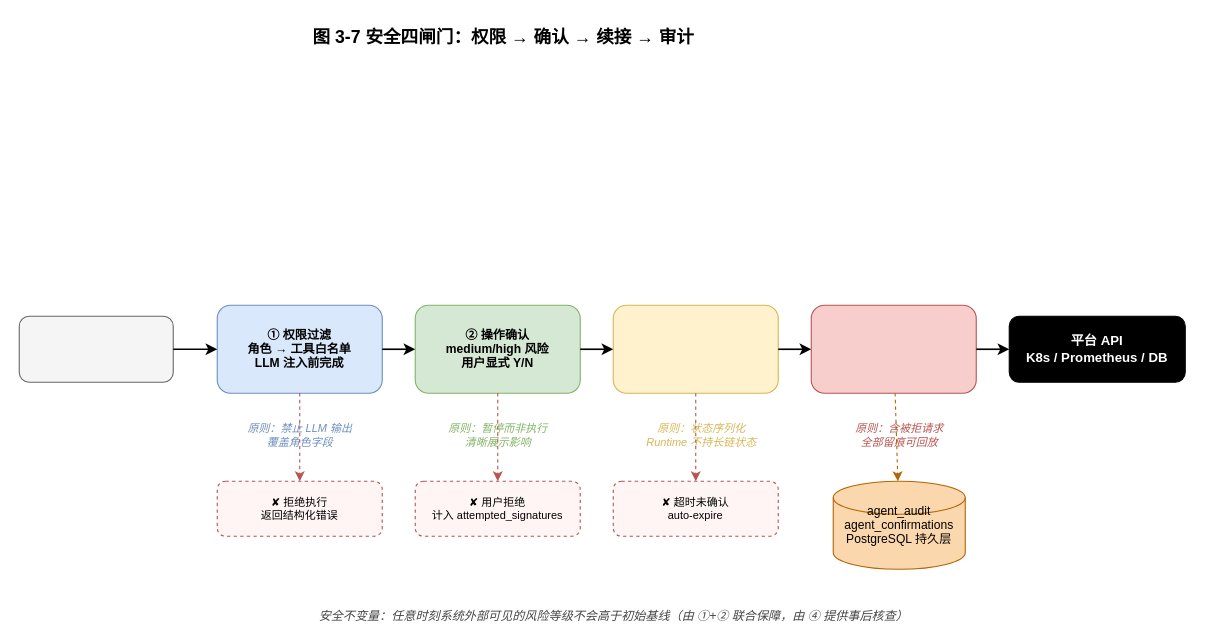
Some shapes in this 1205 by 642 pixel diagram are drawn without their labels. The shapes that lost their labels are listed below. From the top down, each one's centre as x and y in pixels, then its label:
point (95, 348): 用户输入 自然语言运维问题
point (695, 348): ③ 确认续接 workflow checkpoint 无状态恢复
point (893, 348): ④ 审计追踪 全链路日志 persist + replay
